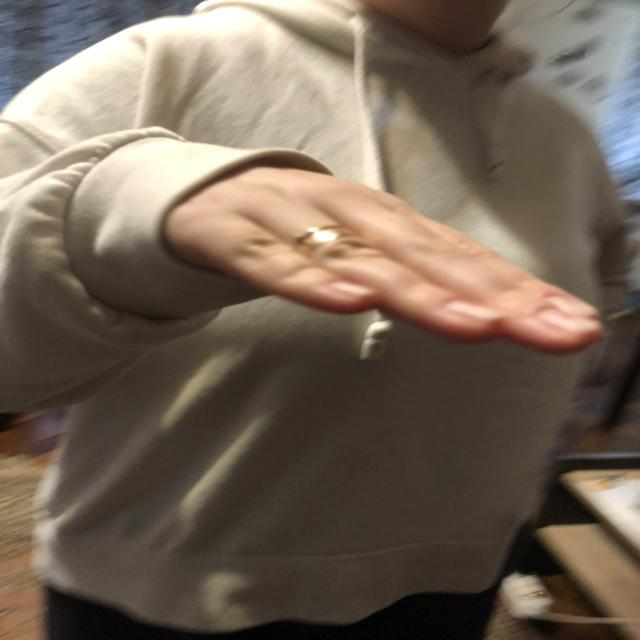paper: (184, 174, 606, 352)
